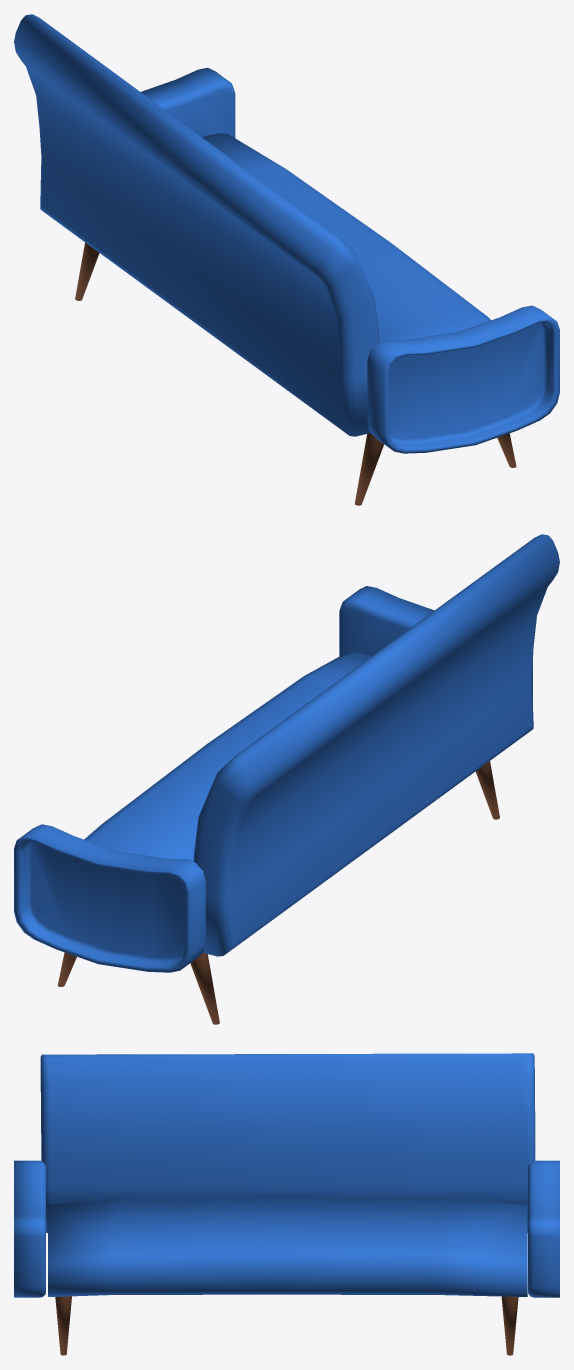
Rendered from Couch.fbx.
3 views of the same model, one above another, from view 1: azimuth 30°, elevation 25°; view 2: azimuth 150°, elevation 25°; view 3: azimuth 270°, elevation 25° (orthographic). The views are drawn at different scales.
Parts seen in each view (by area): view 1: Couch; view 2: Couch; view 3: Couch.
Part boxes in pixels (x1,y1,x2,y2): Couch: [14, 14, 559, 505]; Couch: [14, 534, 559, 1024]; Couch: [14, 1053, 559, 1355].
Size of the model in its own units: 1.23 by 1.52 by 3.3.
